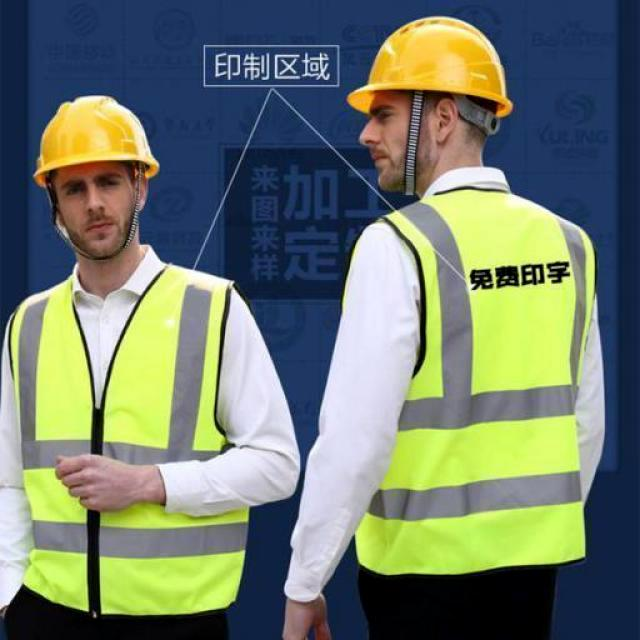hard_hat: (348, 16, 511, 118), (34, 96, 158, 186)
person: (285, 16, 604, 639), (0, 96, 299, 639)
